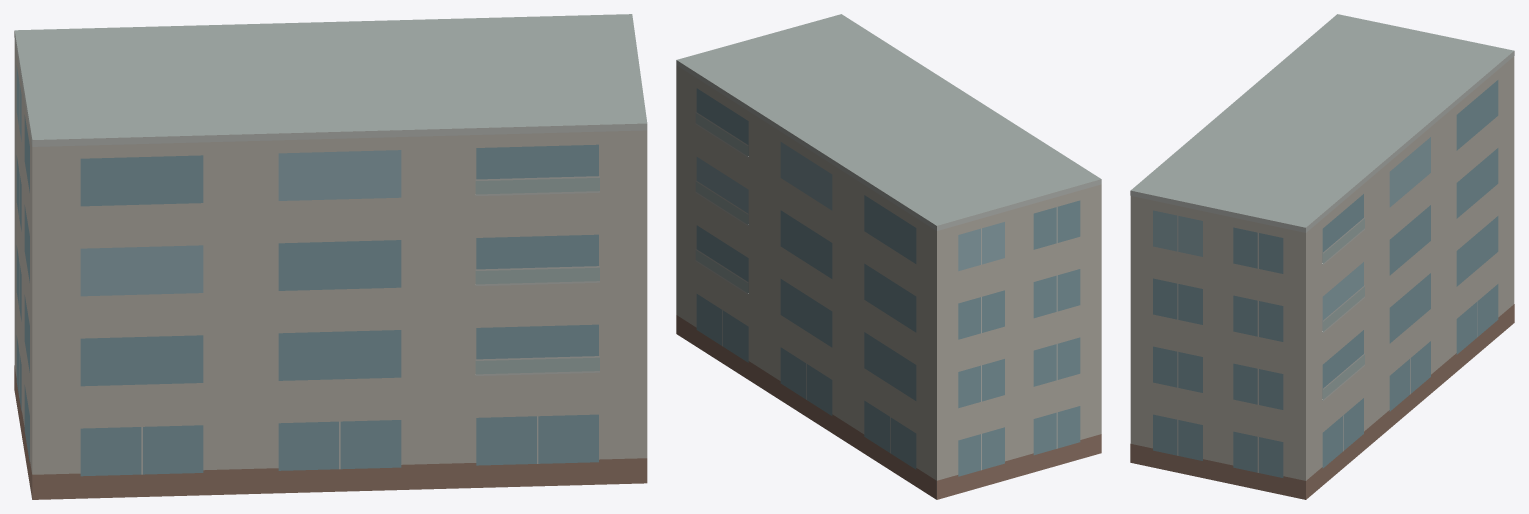
File: survey-upis-32887869.glb
The picture shows the model from 3 angles, left to right: view 1: azimuth 30°, elevation 25°; view 2: azimuth 150°, elevation 25°; view 3: azimuth 270°, elevation 25°; orthographic projection. The views are drawn at different scales.
Parts seen in each view (by area): view 1: survey-upis-32887869.tmp; view 2: survey-upis-32887869.tmp; view 3: survey-upis-32887869.tmp.
Boxes of the visible parts, x1,y1,x2,y2 form: survey-upis-32887869.tmp: (14,14,647,499); survey-upis-32887869.tmp: (676,14,1101,499); survey-upis-32887869.tmp: (1130,14,1514,499).
Bounding box in the file's own units: 21.57 × 12.8 × 16.38.
